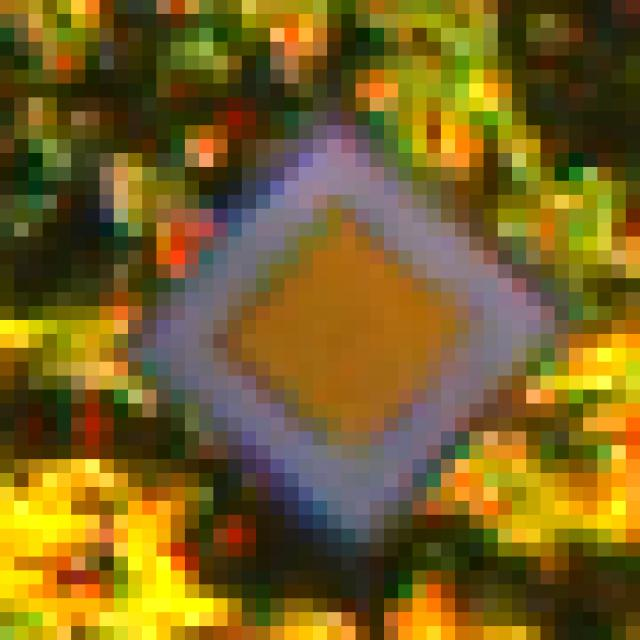Main Road: (86, 71, 570, 558)
